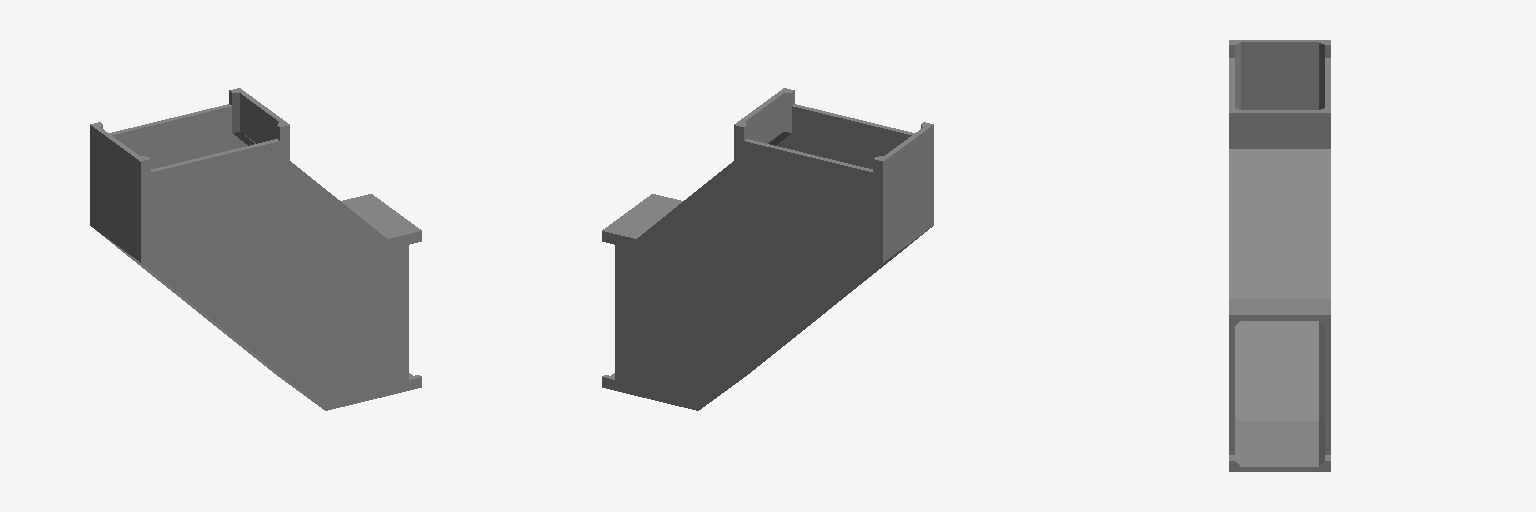
The picture shows the model from 3 angles: view 1: azimuth 30°, elevation 25°; view 2: azimuth 150°, elevation 25°; view 3: azimuth 270°, elevation 25°; orthographic projection.
Parts seen in each view (by area): view 1: SM_45Turn_E; view 2: SM_45Turn_E; view 3: SM_45Turn_E.
Boxes of the visible parts, box(x1,y1,x2,y2) form: SM_45Turn_E: box(90, 88, 421, 410); SM_45Turn_E: box(602, 88, 933, 410); SM_45Turn_E: box(1229, 40, 1330, 471).
Size of the model in its own units: 429 by 429 by 134.